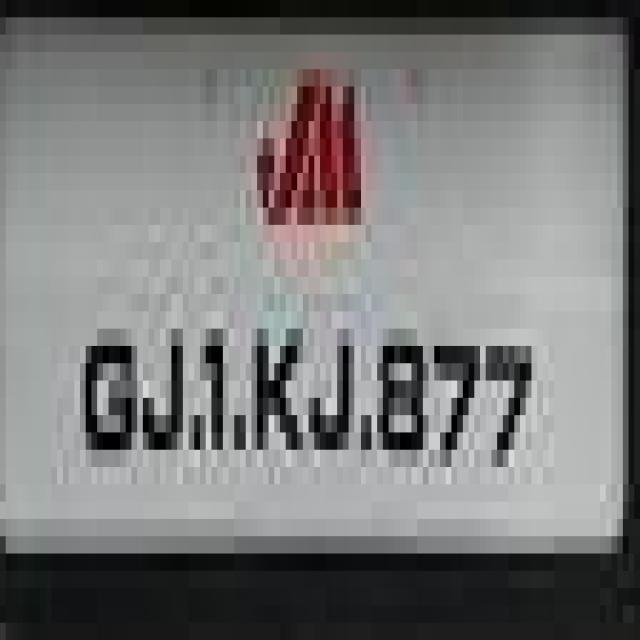license_plate: (11, 52, 606, 571)
